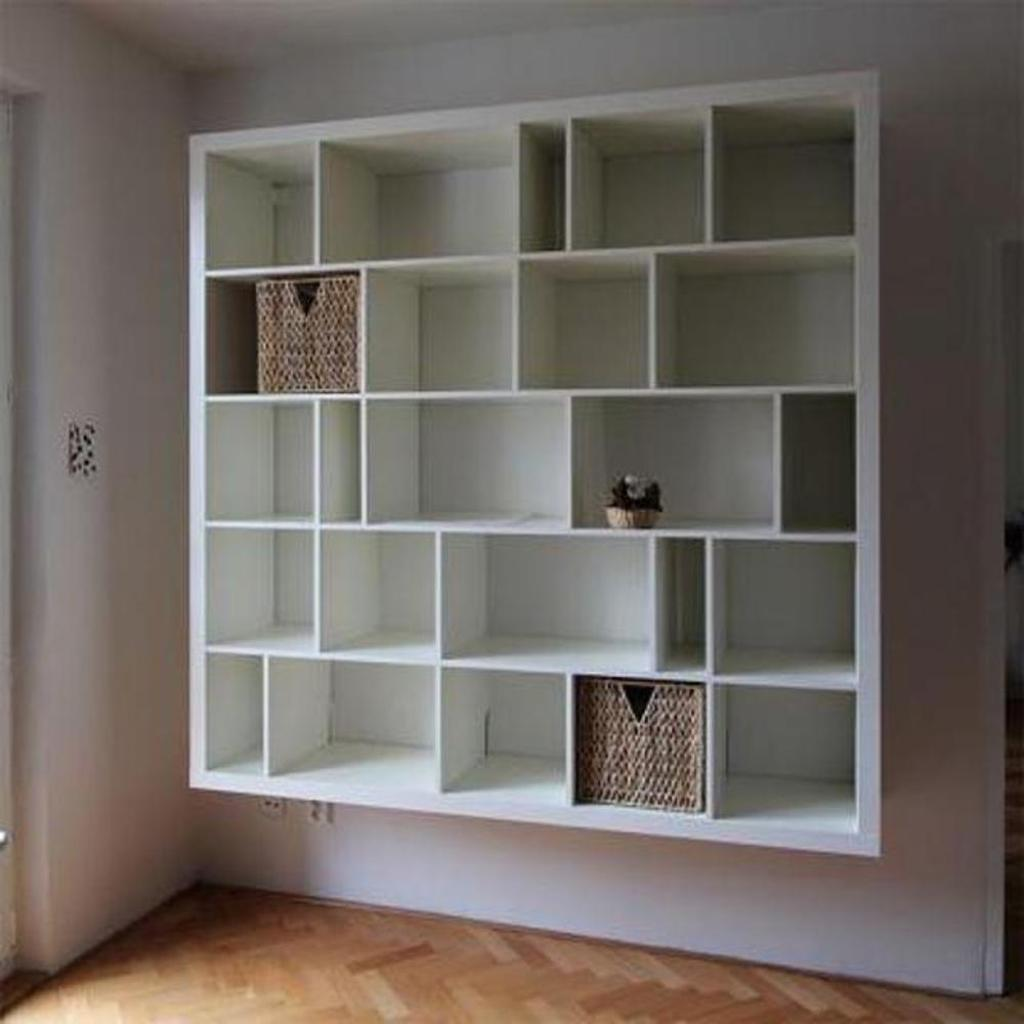lamp: (185, 67, 889, 871)
